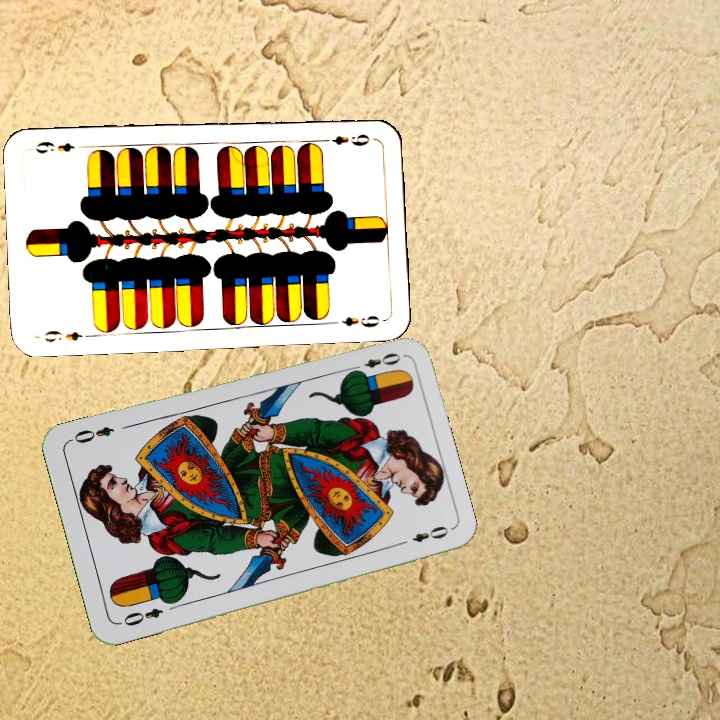E9: (318, 130, 373, 149), (41, 326, 94, 345)
EO: (346, 348, 403, 376), (119, 604, 166, 629)
